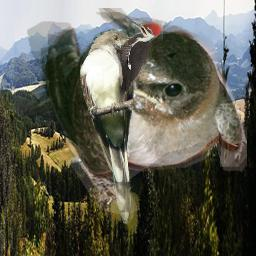Cuckoo: (80, 28, 144, 225)
Swallow: (14, 8, 247, 218)
Woodpecker: (108, 20, 163, 110)
